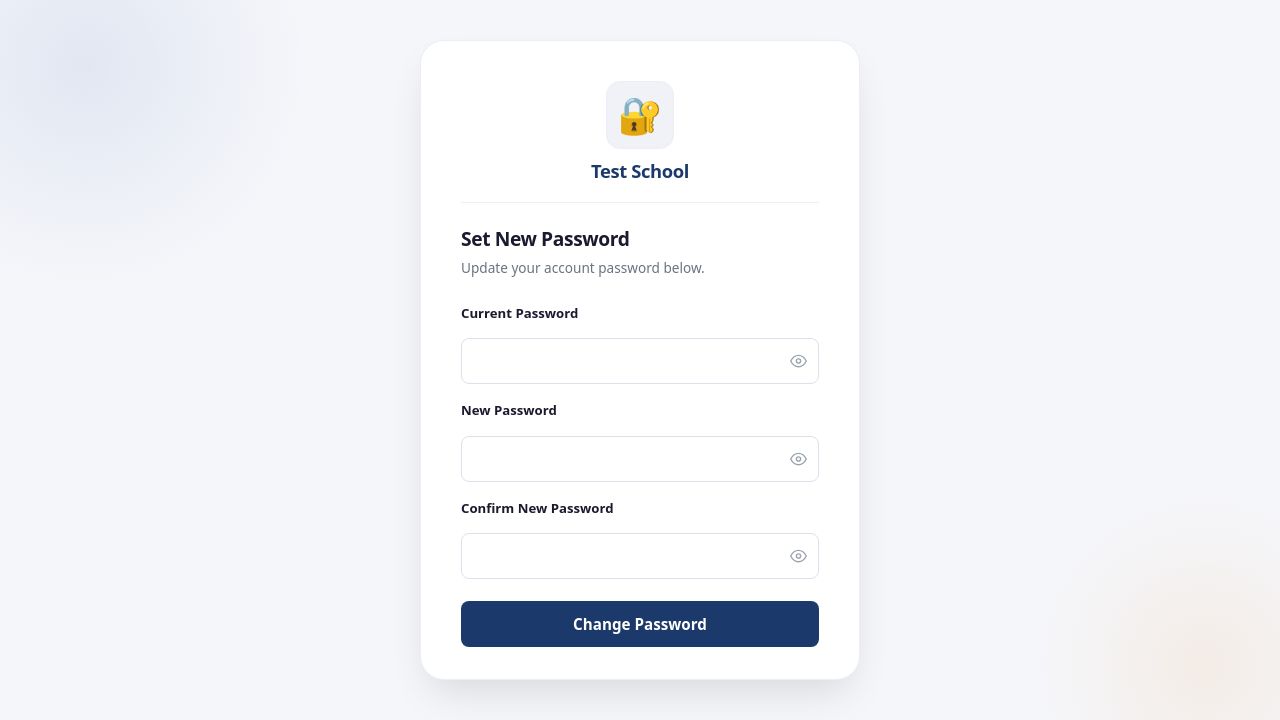
Test: ChangePassword submits valid credentials and updates authentication state
In the password field labelled "Current Password": (640, 361) [461,338,819,384], type "OldPassword1!"
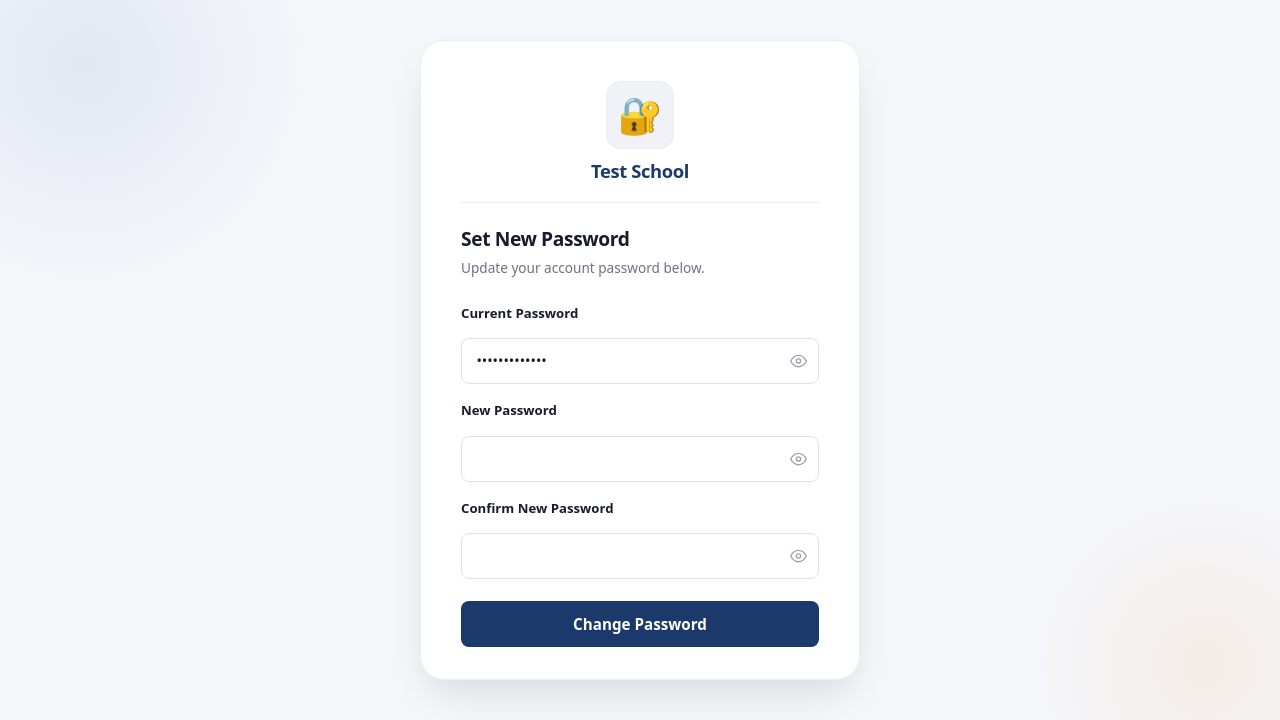
In the password field labelled "New Password": (640, 459) [461,436,819,482], type "NewPassword1!"
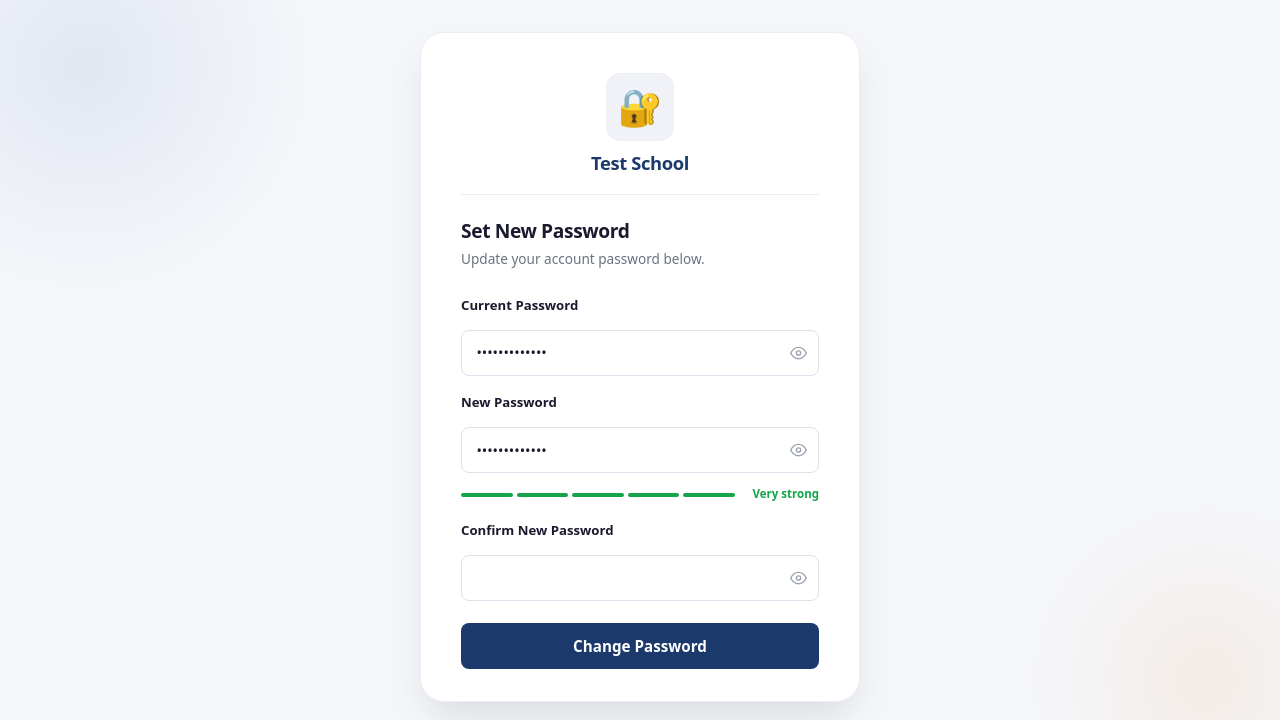
In the password field labelled "Confirm New Password": (640, 578) [461,555,819,601], type "NewPassword1!"
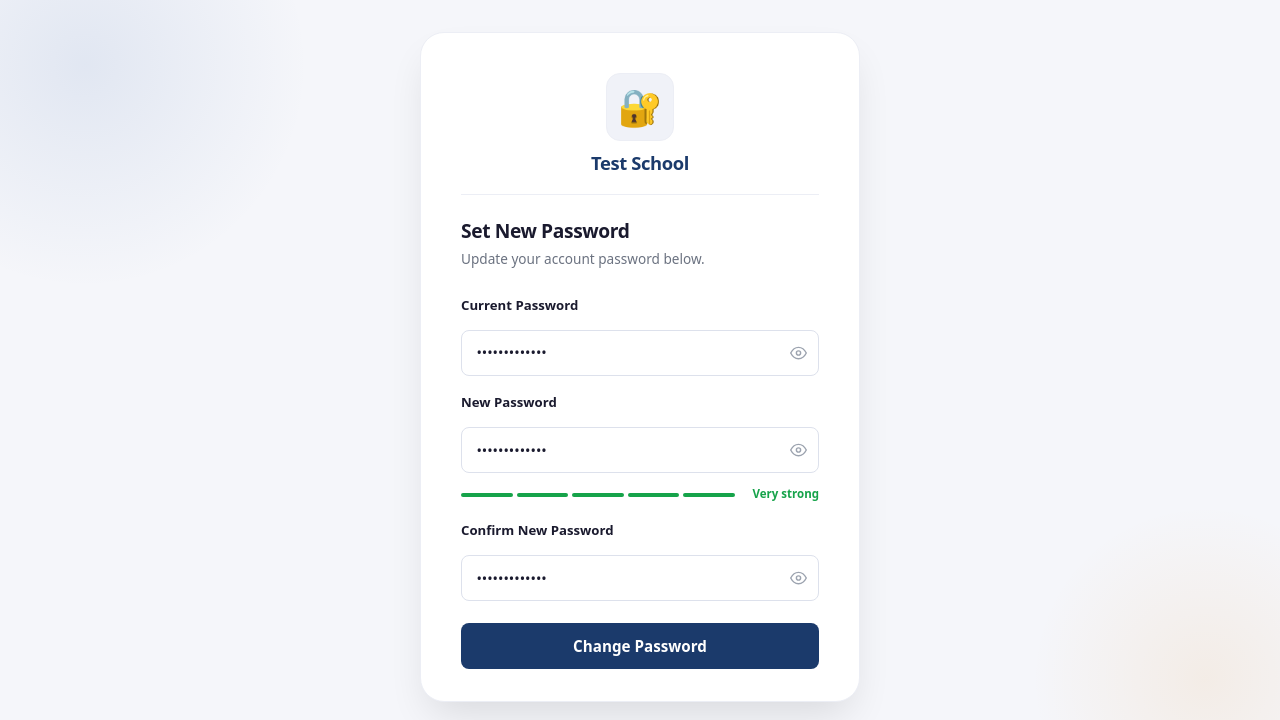
Submit the form, box [461,294,819,669]
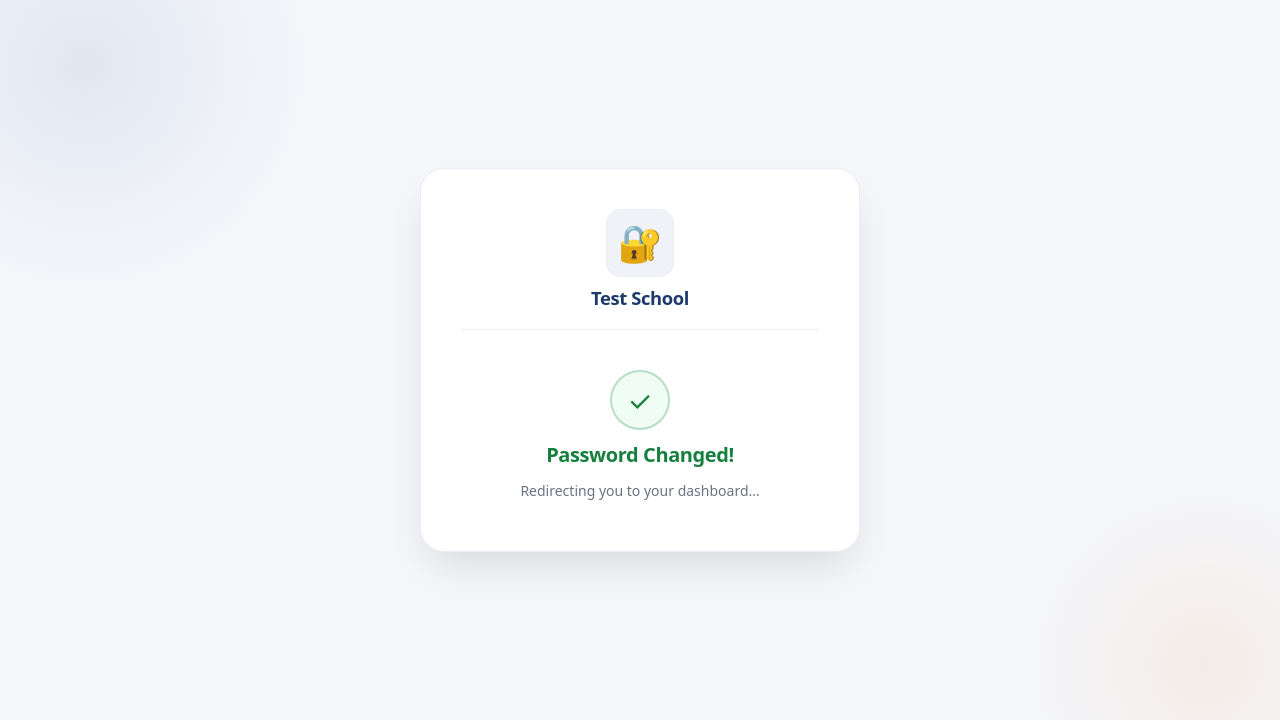
expect the heading "Password Changed!" is shown: met, box [546,442,734,467]
